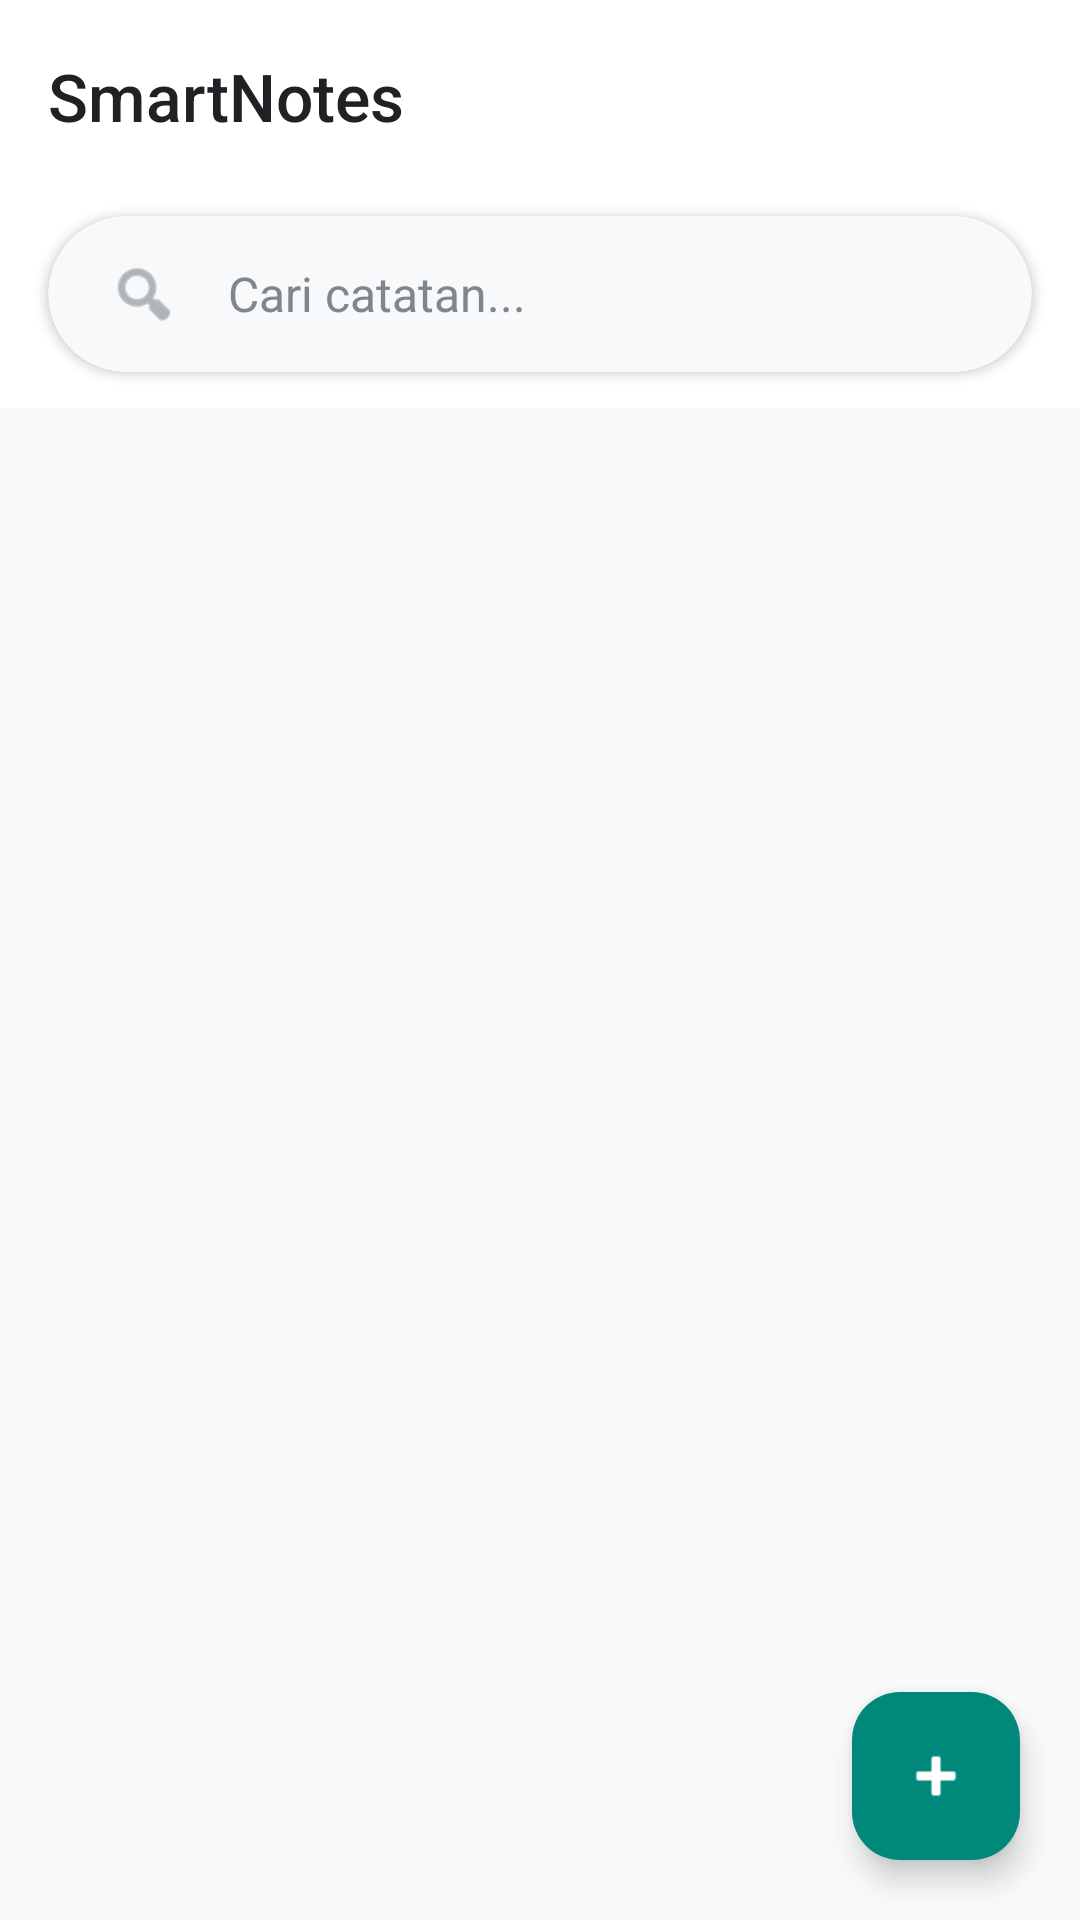

Icons on this 1080x1920 Android screen, each with its box as box=[x1, y1, x2, y2]:
search: box=[118, 268, 170, 321]
Tambah Catatan: box=[852, 1692, 1020, 1860]
